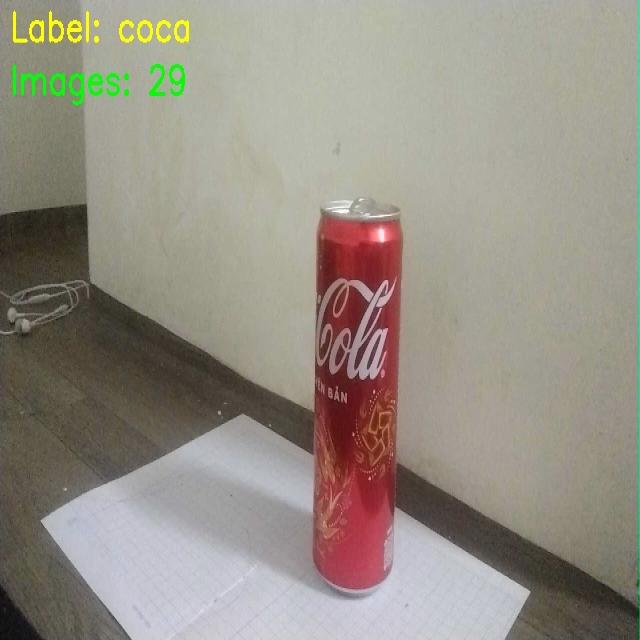Coca: (288, 187, 429, 603)
